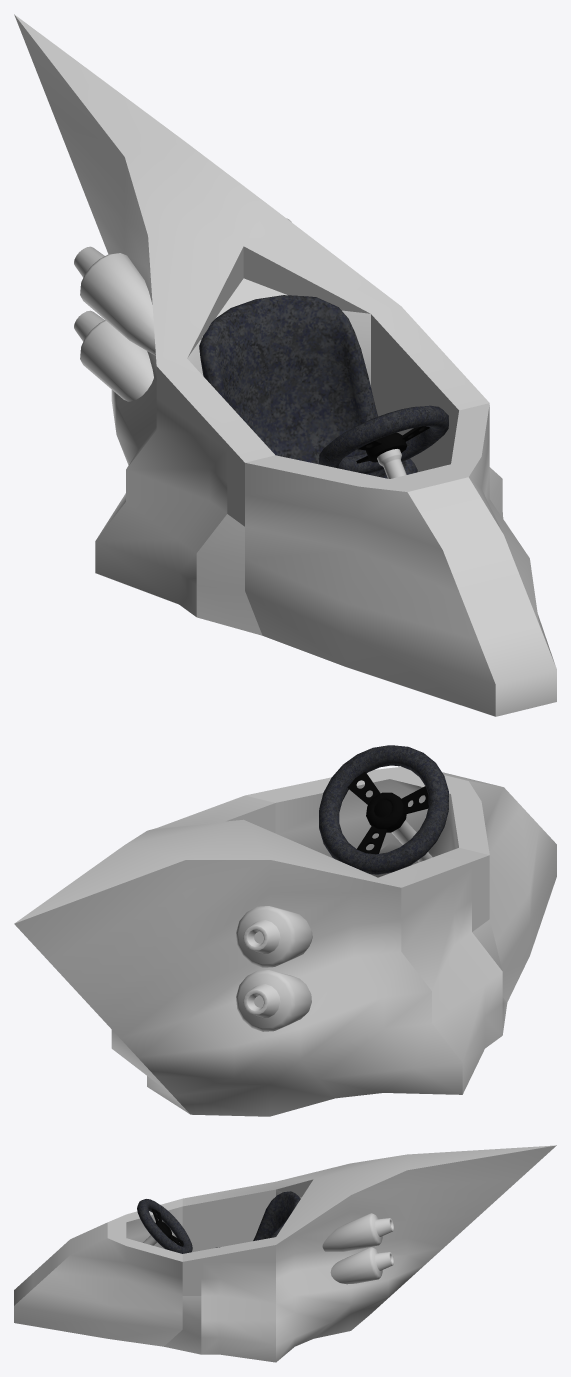
Rendered from Grumobile.fbx.
The picture shows the model from 3 angles, top to bottom: view 1: azimuth 30°, elevation 25°; view 2: azimuth 150°, elevation 25°; view 3: azimuth 270°, elevation 25°; orthographic projection. The views are drawn at different scales.
Parts seen in each view (by area): view 1: Kart_Body, Kart_Chair, Kart_Engine, Kart_Steeringwheel; view 2: Kart_Body, Kart_Steeringwheel, Kart_Engine; view 3: Kart_Body, Kart_Engine, Kart_Steeringwheel, Kart_Chair.
Boxes of the visible parts, box(x1,y1,x2,y2) form: Kart_Body: box(14, 14, 556, 716); Kart_Chair: box(199, 295, 417, 478); Kart_Engine: box(74, 218, 291, 401); Kart_Steeringwheel: box(319, 405, 448, 478); Kart_Body: box(14, 766, 556, 1116); Kart_Steeringwheel: box(319, 745, 448, 874); Kart_Engine: box(236, 906, 312, 1031); Kart_Body: box(14, 1145, 556, 1362); Kart_Engine: box(322, 1213, 393, 1284); Kart_Steeringwheel: box(137, 1199, 192, 1253); Kart_Chair: box(216, 1191, 300, 1247).
Size of the model in its own units: 120 by 100 by 290.
